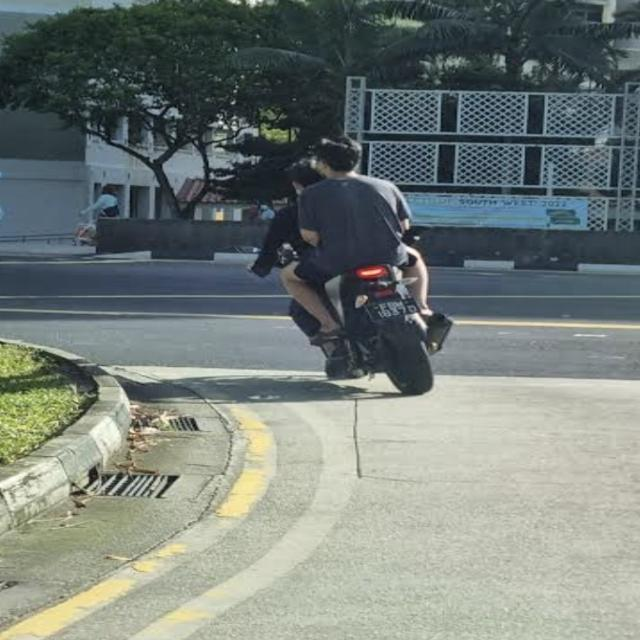WithoutHelmet: (280, 137, 450, 349), (248, 163, 336, 275)
